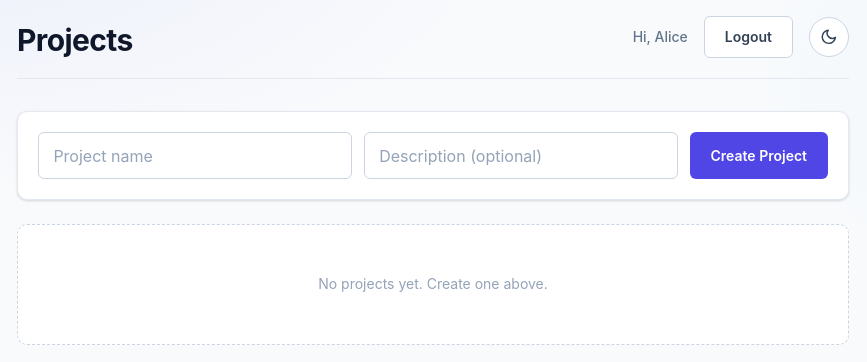
Test: Projects page › creates a project and reloads the list
Expected: the text "No projects yet. Create one above." is shown, [17,224,849,344]
Type "Beta Project" into the field with placeholder "Project name" at (195, 156), box [38,132,352,179]
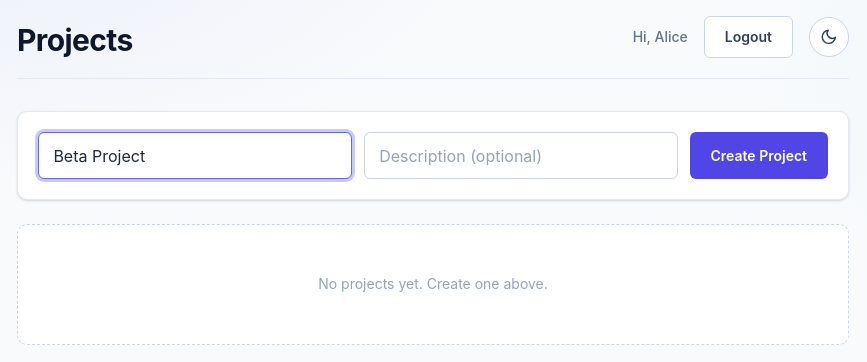
Click the button "Create Project" at (759, 156), box [690,132,828,179]
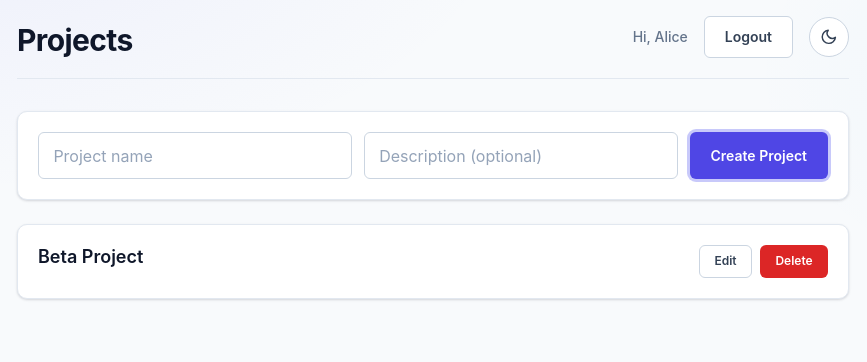
Now the link "Beta Project" is shown, box [38,245,143,269]
